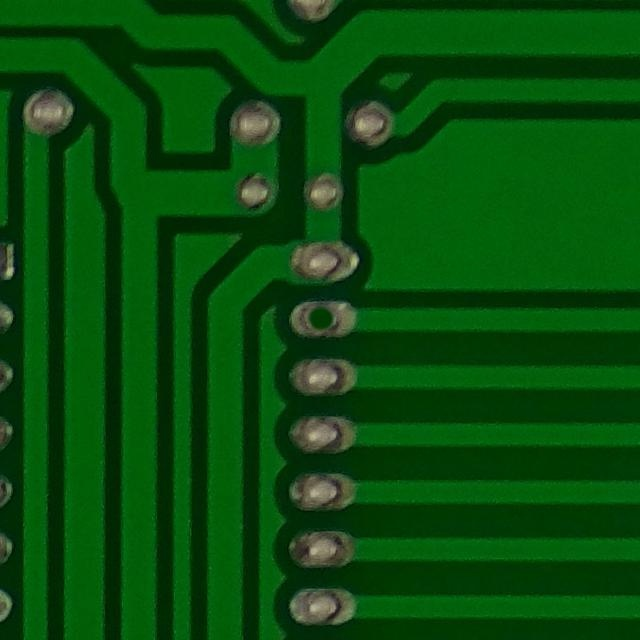missing_hole: (284, 292, 355, 348)
